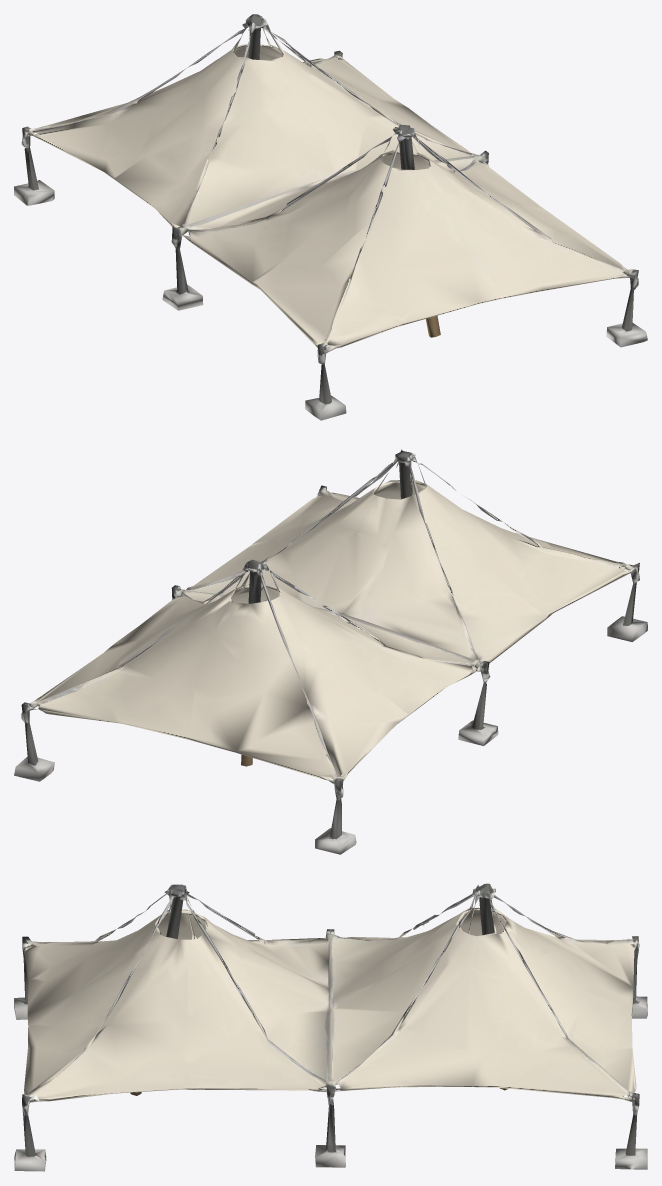
The model's file is tensile-canopy.glb.
The picture shows the model from 3 angles, top to bottom: view 1: azimuth 30°, elevation 25°; view 2: azimuth 150°, elevation 25°; view 3: azimuth 270°, elevation 25°; orthographic projection. The views are drawn at different scales.
Visible parts, largest first — view 1: tripo_node_b58a9aac-3c3a-4055-86f2-d4f647ee6281; view 2: tripo_node_b58a9aac-3c3a-4055-86f2-d4f647ee6281; view 3: tripo_node_b58a9aac-3c3a-4055-86f2-d4f647ee6281.
Part boxes in pixels (left/top/right/bottom): tripo_node_b58a9aac-3c3a-4055-86f2-d4f647ee6281: left=14, top=14, right=647, bottom=420; tripo_node_b58a9aac-3c3a-4055-86f2-d4f647ee6281: left=14, top=449, right=647, bottom=854; tripo_node_b58a9aac-3c3a-4055-86f2-d4f647ee6281: left=14, top=883, right=647, bottom=1171.
Bounding box in the file's own units: 0.6172 × 0.3578 × 1.
1 material, 1 textured.
